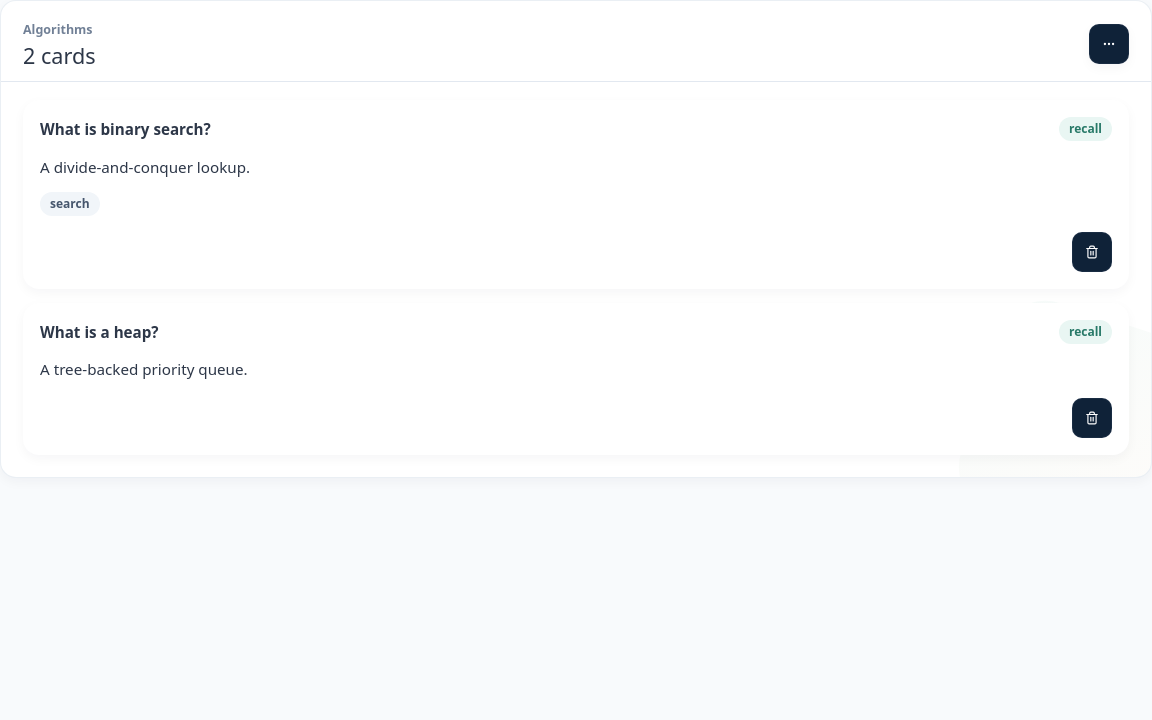
it: CardGrid › shows a bulk archive error without clearing the current selection
This screenshot has width=1152, height=720.
Press ArrowDown in the button named "card actions", box [1089,24,1129,64]
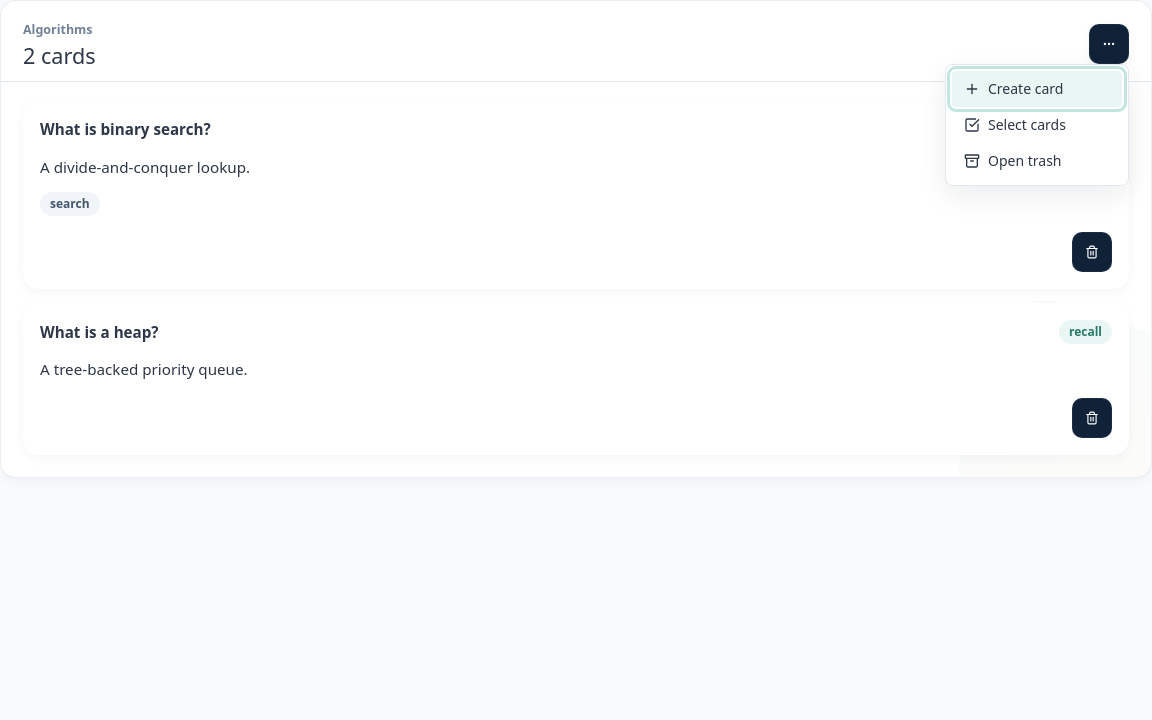
Click the menu item "Select cards". click: (1015, 124)
box: [964,115,1066,134]
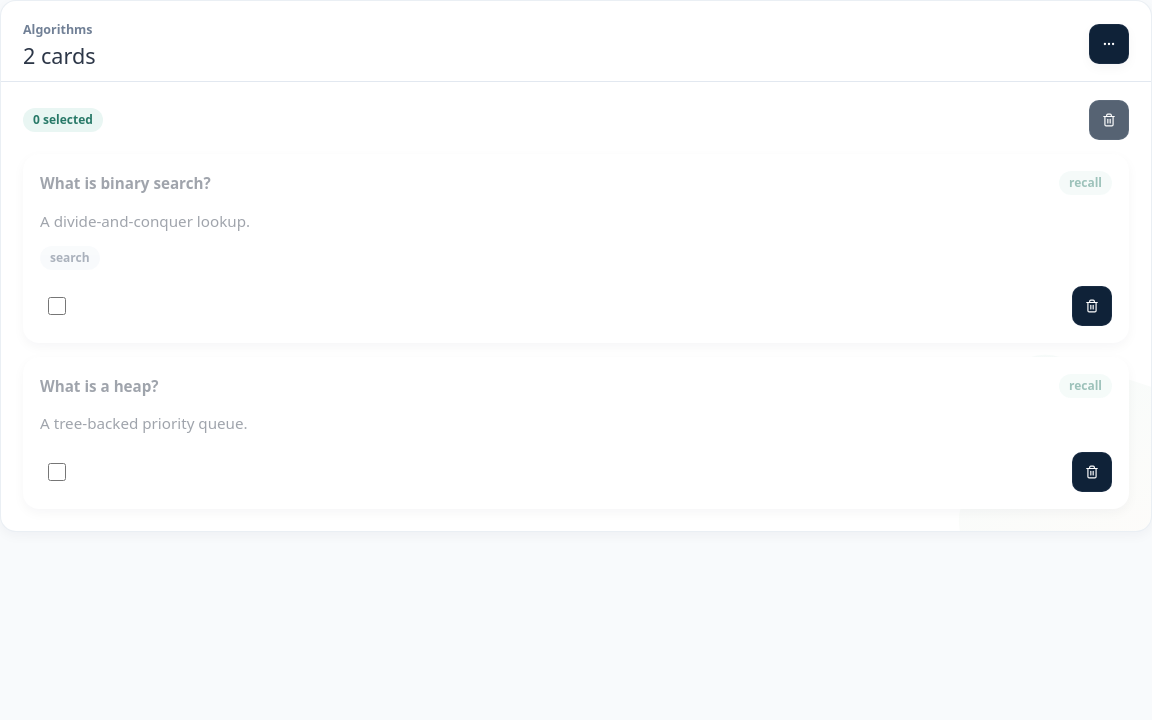
Click the checkbox named "select what is binary search?". click: (57, 306)
box: [48,297,66,315]
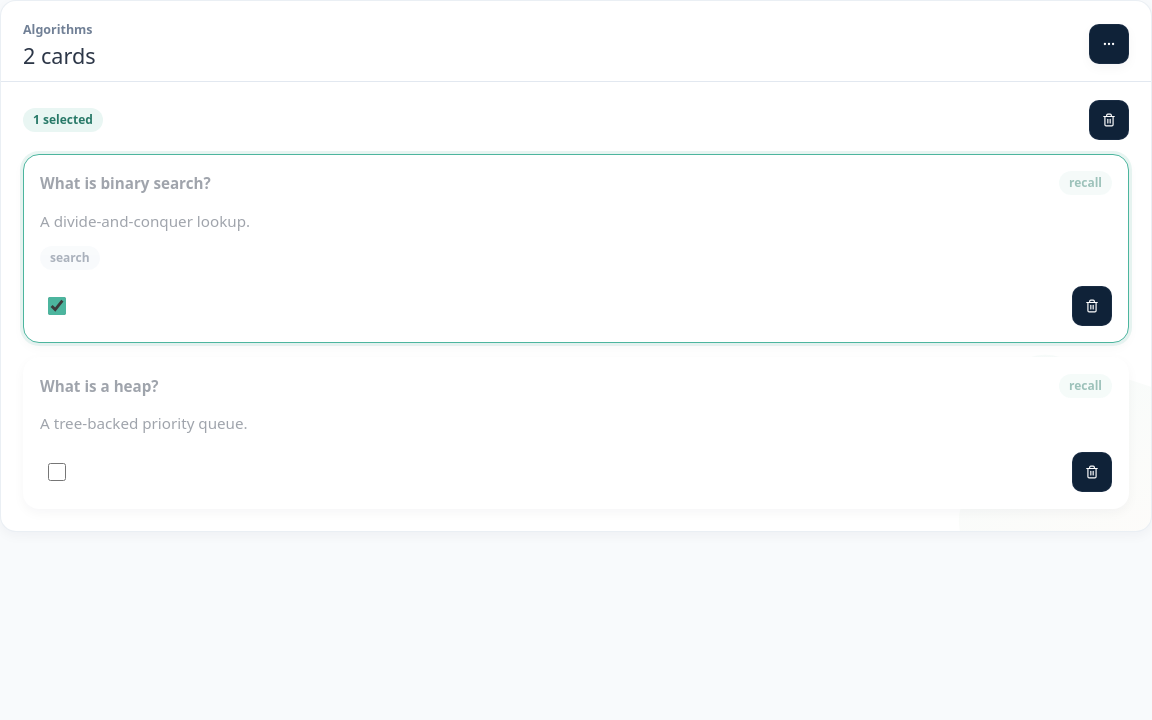
Click the checkbox named "select what is a heap?". click: (57, 472)
box: [48,463,66,481]
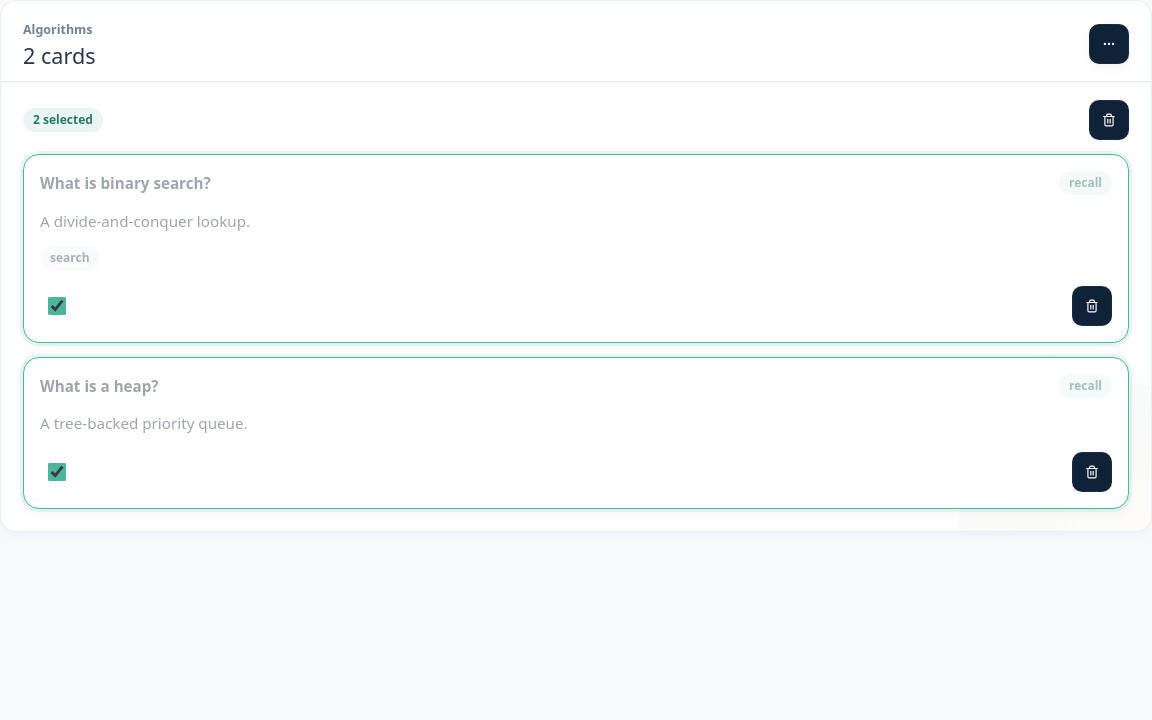
Click the button named "delete selected cards". click: (1109, 120)
box: [1089,100,1129,140]
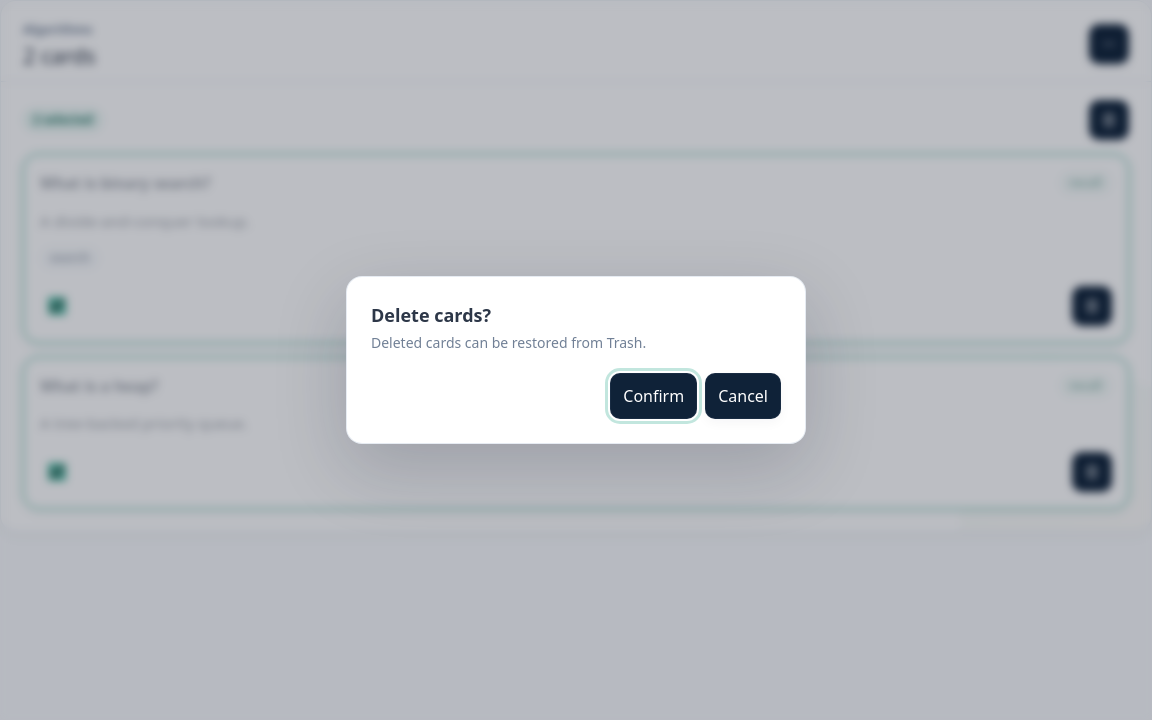
Click the button "Confirm". click: (654, 396)
box: [610,373,697,419]
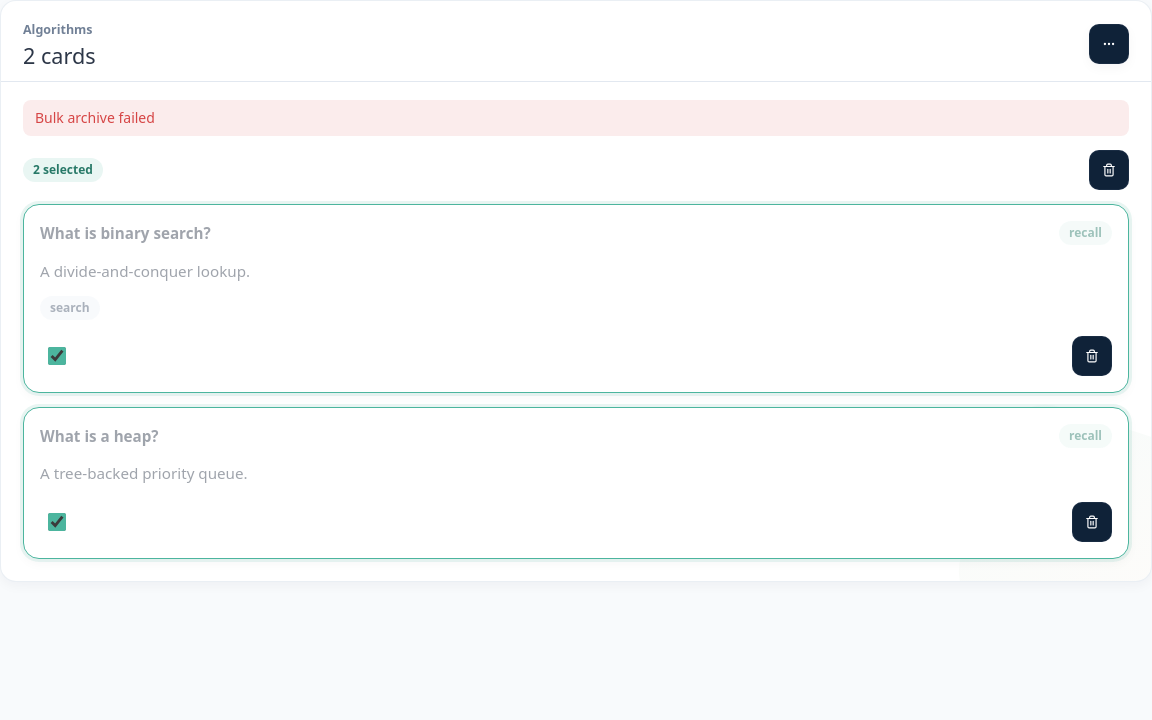
Expected: the text "2 selected" is shown, [23,158,103,182]
Expected: the text "Bulk archive failed" is shown, [23,100,1129,136]
Expected: the heading "Delete cards?" is gone
